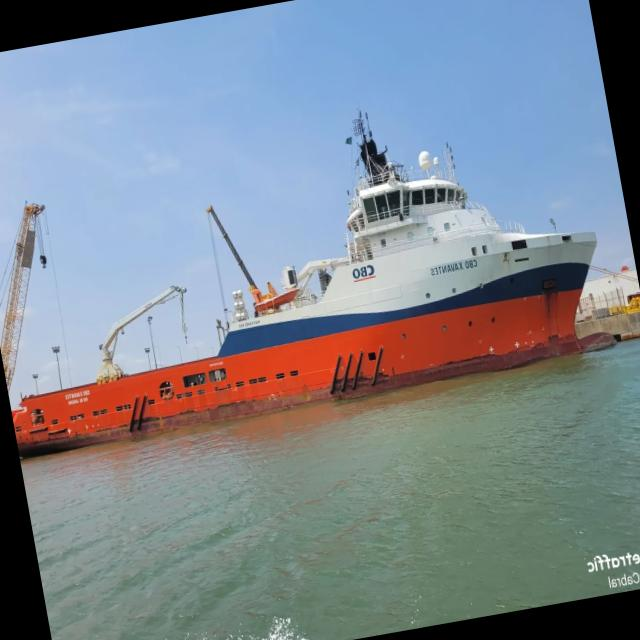Offshore: (11, 114, 614, 452)
